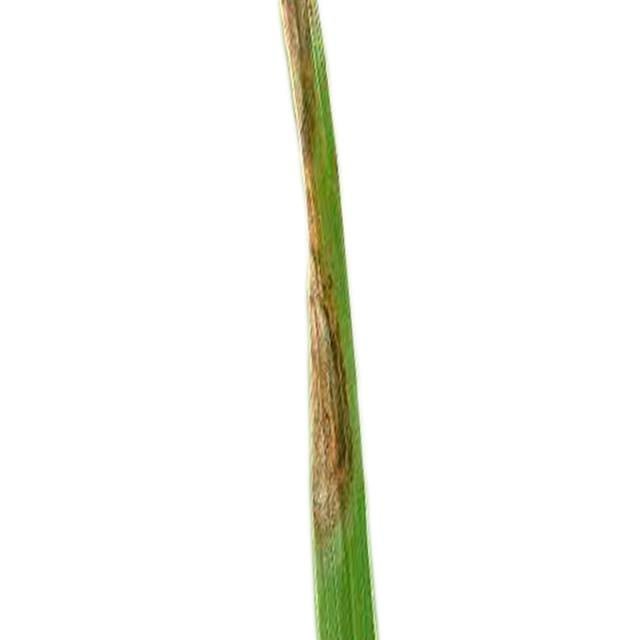Leaf scald: (148, 0, 516, 640)
